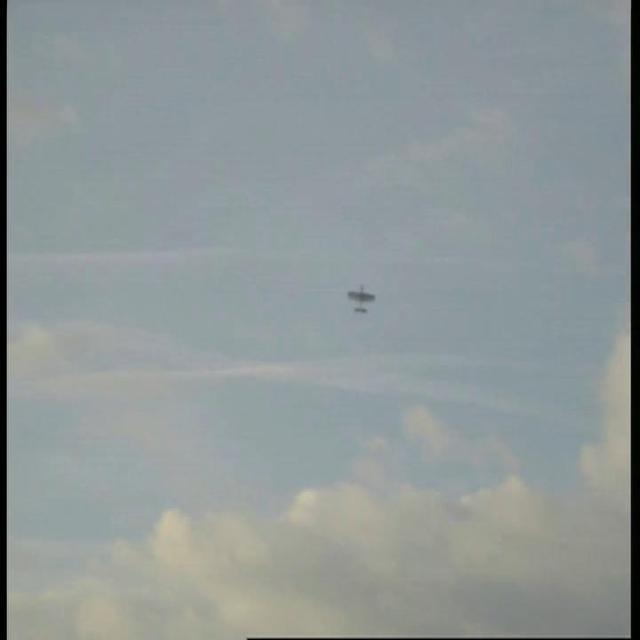drone: (339, 282, 382, 321)
